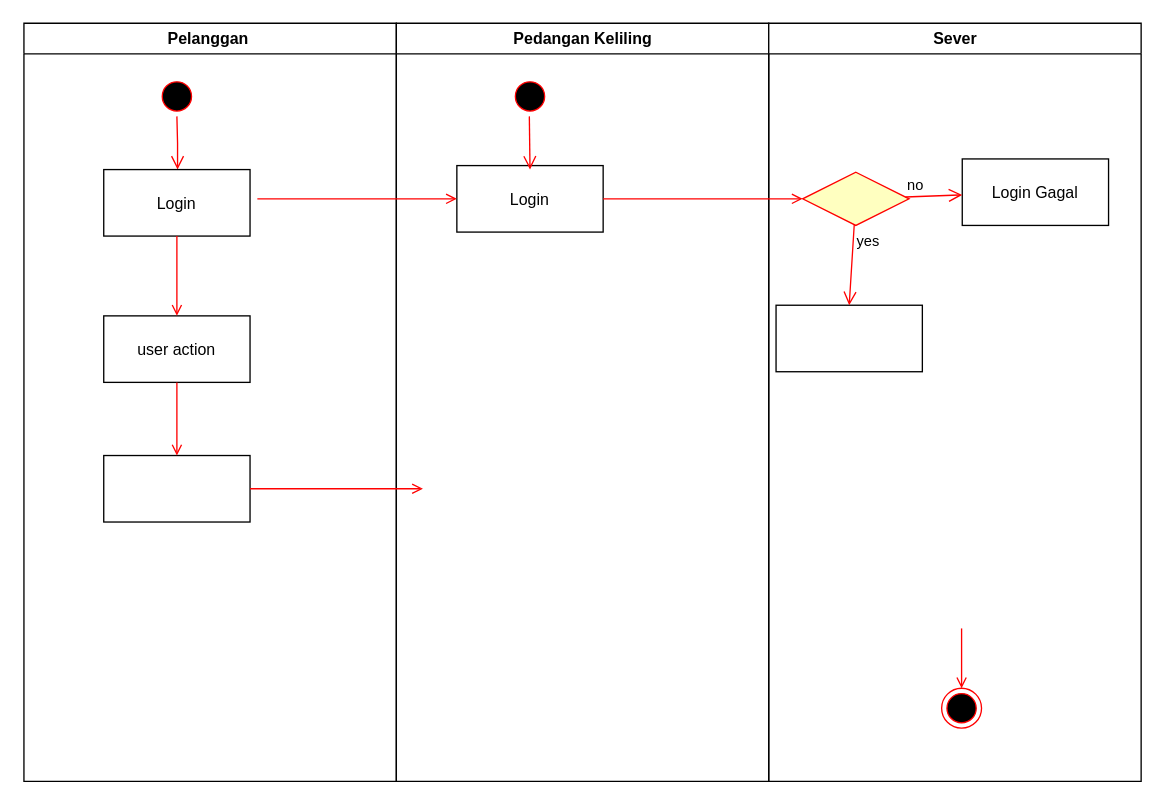
Image size: 1164x805. Some labels were removed from this diagram. Each missing label, with the centre of its shape:
"Condition" belongs at point (855, 198).
"Login Berhasil" belongs at point (848, 338).
"post command" belongs at point (176, 488).
